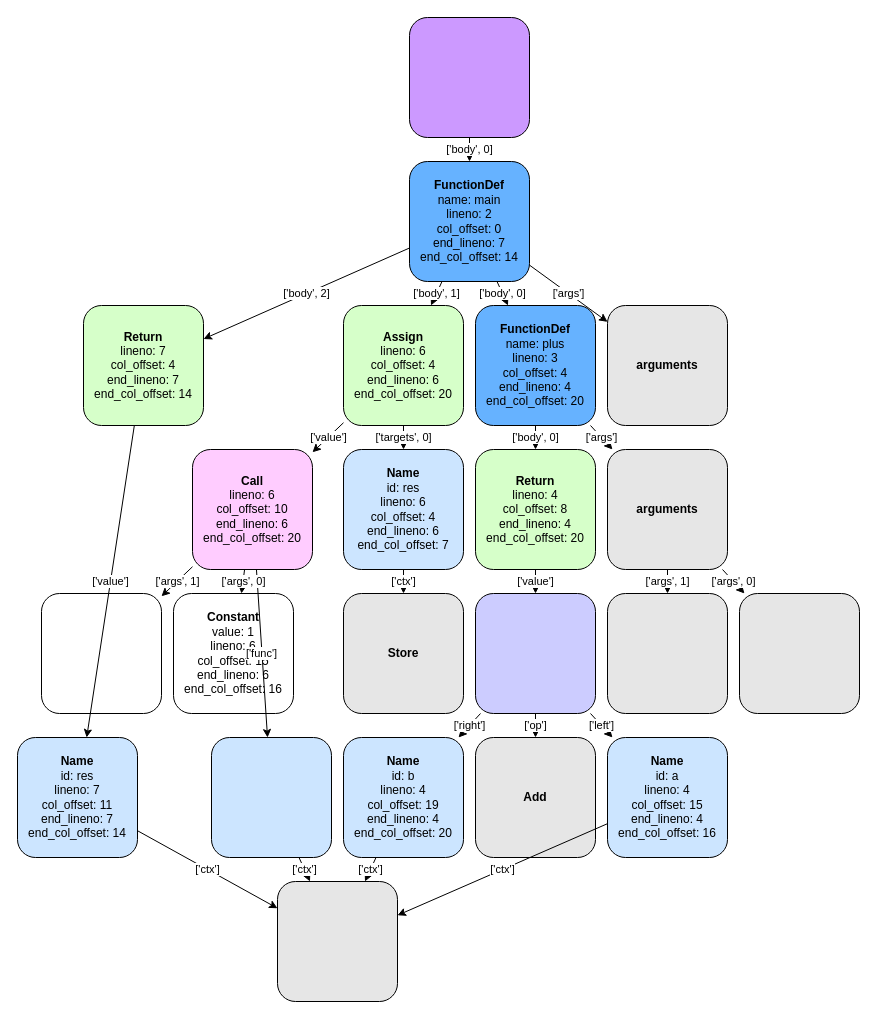
The diagram is 877 pixels wide and 1019 high, and some of its shapes have lost their labels. Each missing label, with the box of its shape:
arg arg: a lineno: 3 col_offset: 13 end_lineno: 3 end_col_offset: 14: (738, 592, 860, 714)
arg arg: b lineno: 3 col_offset: 16 end_lineno: 3 end_col_offset: 17: (606, 592, 728, 714)
BinOp lineno: 4 col_offset: 15 end_lineno: 4 end_col_offset: 20: (474, 592, 596, 714)
Constant value: 2 lineno: 6 col_offset: 18 end_lineno: 6 end_col_offset: 19: (40, 592, 162, 714)
Load: (276, 880, 398, 1002)
Module: (408, 16, 530, 138)
Name id: plus lineno: 6 col_offset: 10 end_lineno: 6 end_col_offset: 14: (210, 736, 332, 858)
